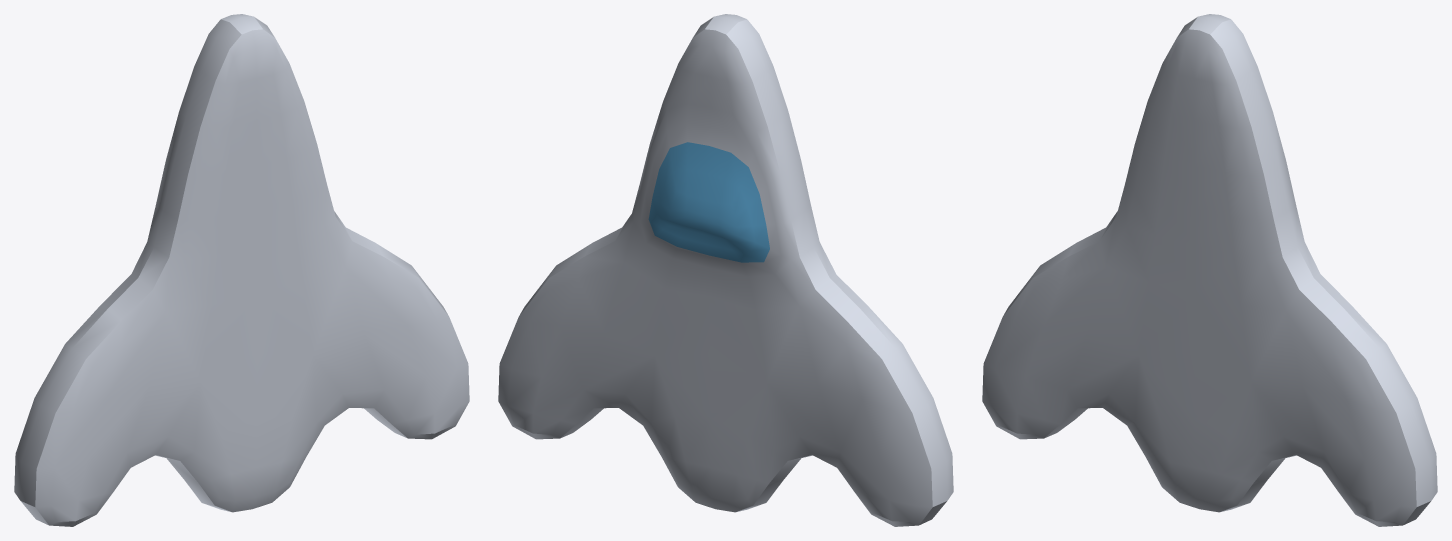
Rendered from Ship.fbx.
3 views of the same model, side by side, from view 1: azimuth 30°, elevation 25°; view 2: azimuth 150°, elevation 25°; view 3: azimuth 330°, elevation 25° (orthographic).
Parts seen in each view (by area): view 1: Ship; view 2: Ship; view 3: Ship.
Boxes of the visible parts, <box> form: Ship: <box>14,14,469,526</box>; Ship: <box>498,14,953,526</box>; Ship: <box>982,14,1437,526</box>.
Bounding box in the file's own units: 3.39 × 3.57 × 0.5179.
